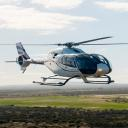helicopter: (2, 38, 128, 86)
